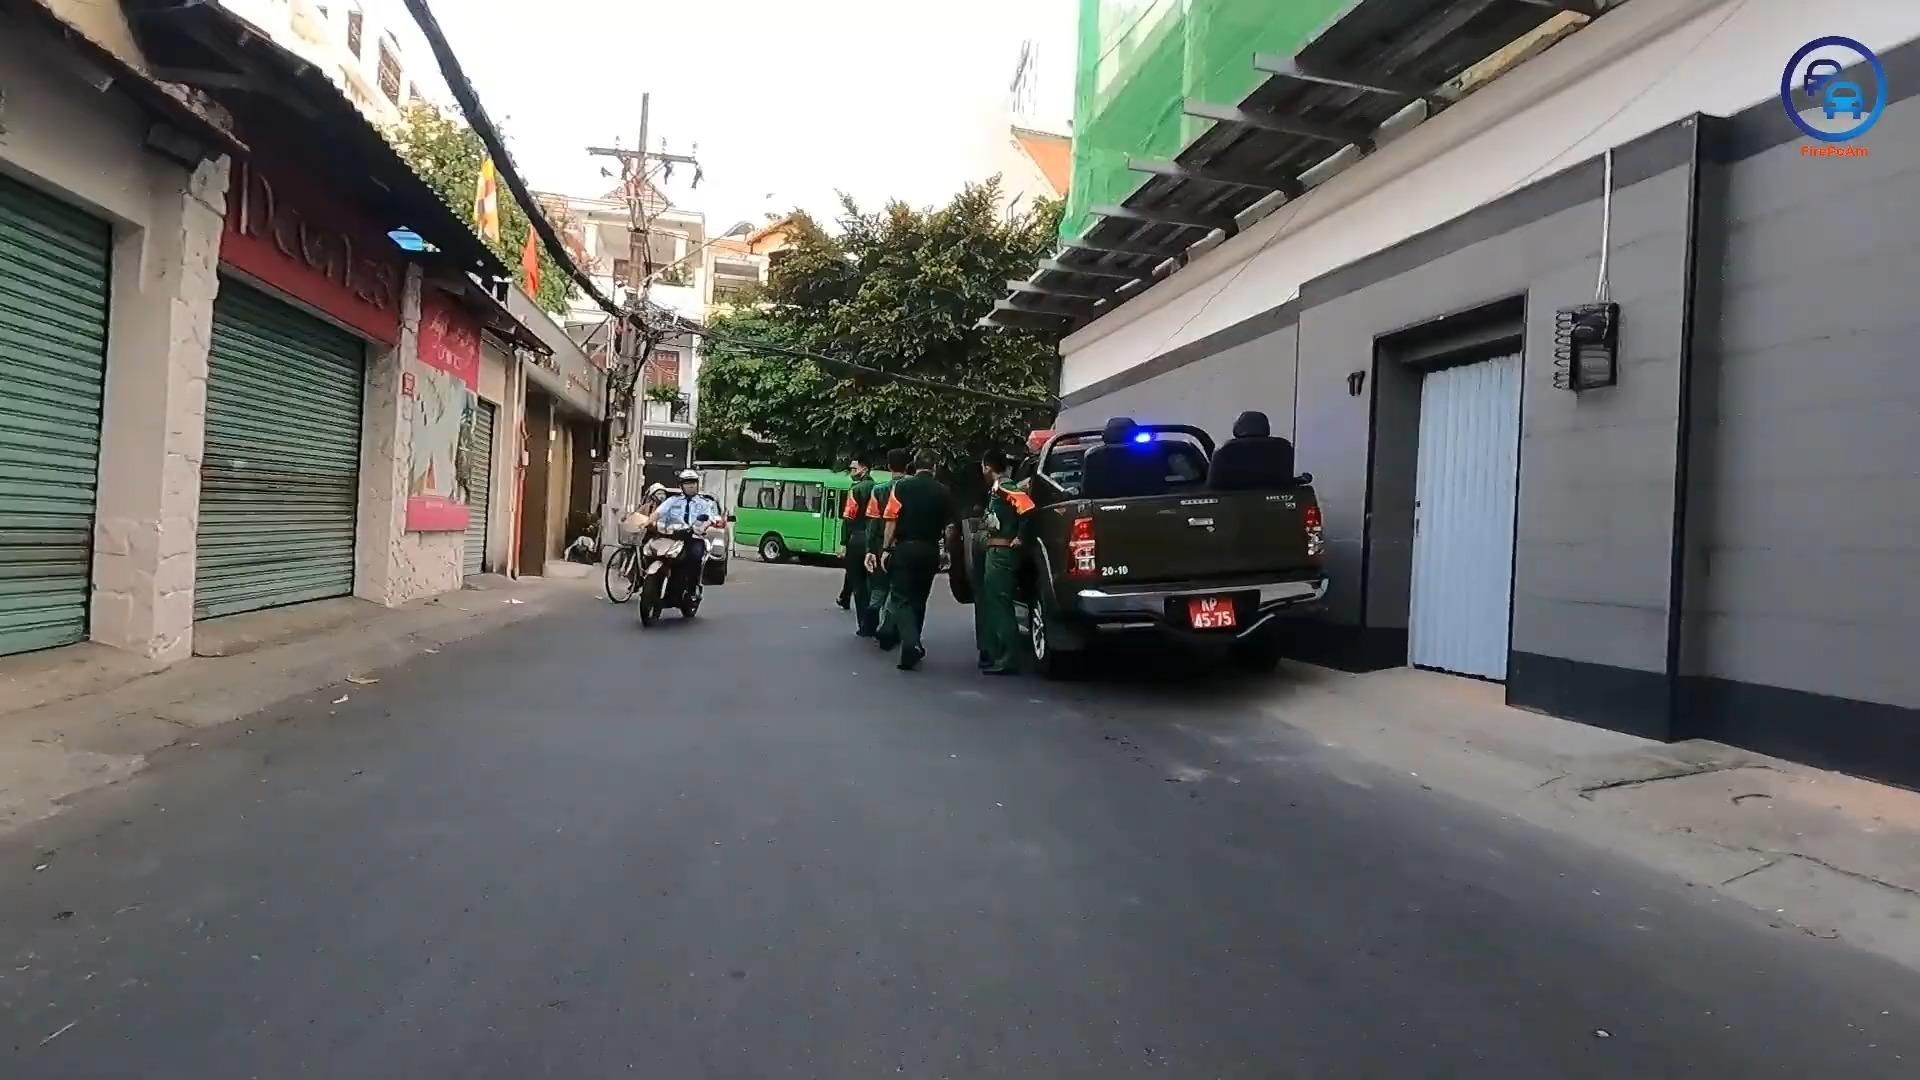bien_so: (1185, 591, 1237, 632)
